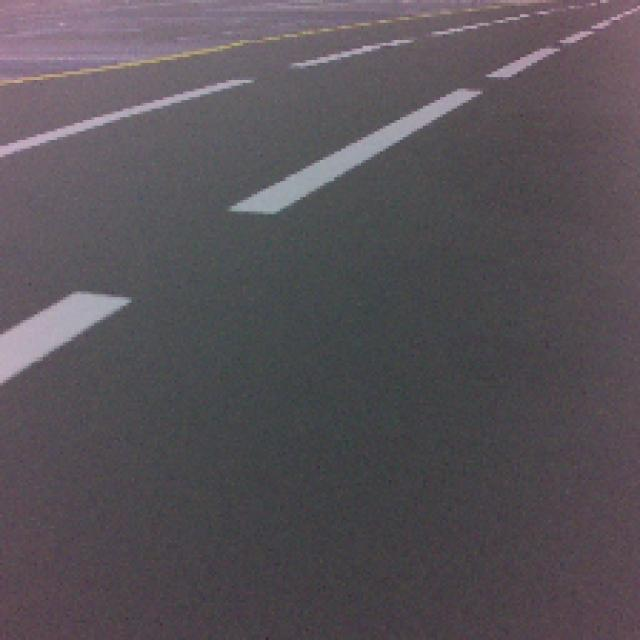Road: (0, 302, 639, 640)
